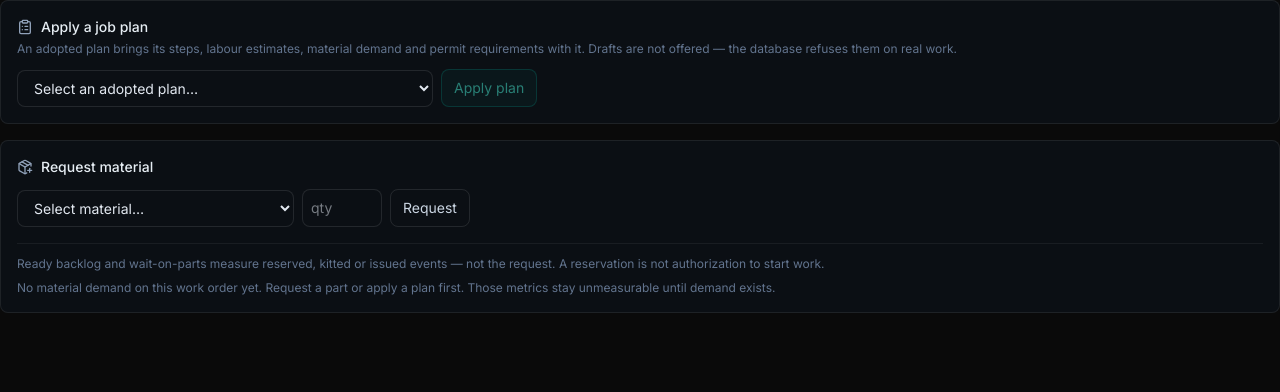
Scenario: WorkOrderPlanningPanel › surfaces the database's own refusal sentence
Select "Replace pump seal — 4 steps, 6h, 2 materials, 1 permits" in the dropdown named "Job plan" at [225, 88], box [17, 70, 433, 106]
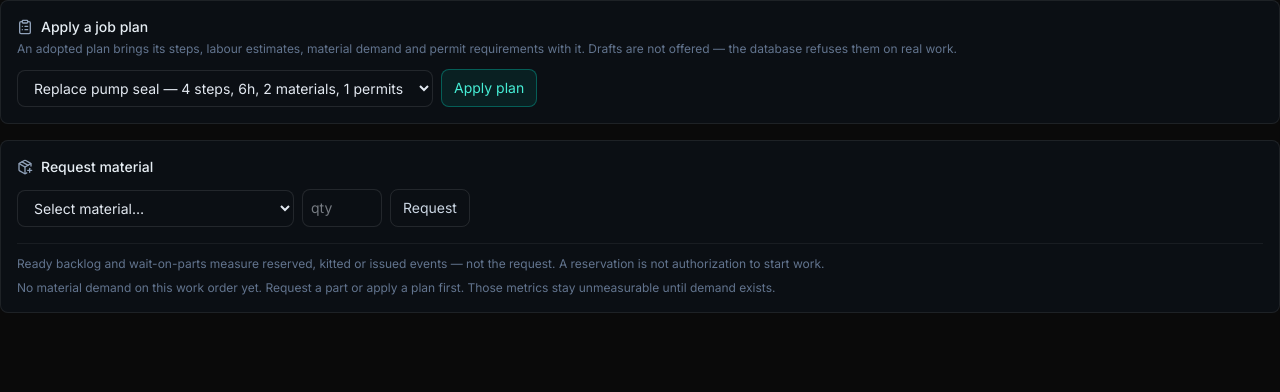
Click the button "Apply plan".
click(489, 88)  # box [441, 69, 537, 107]
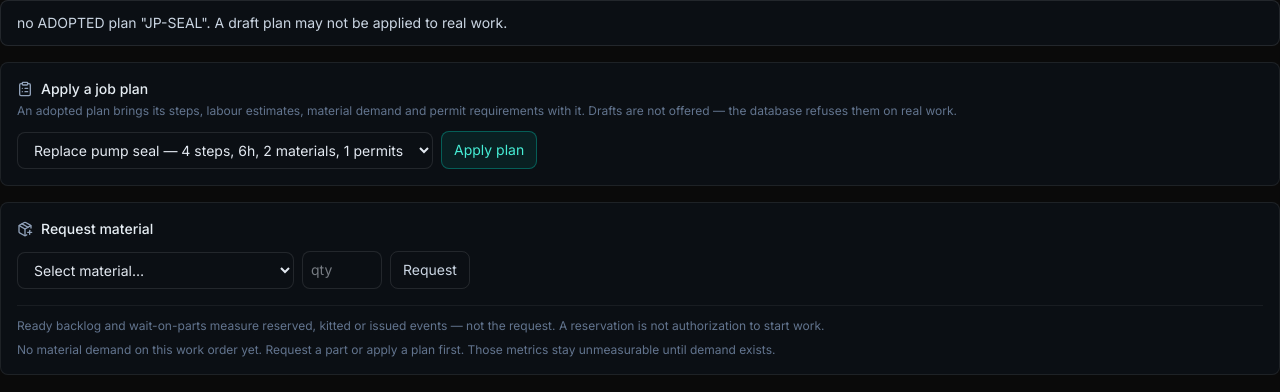
Now the text "A draft plan may not be applied to real work" is shown, box [17, 14, 507, 31]
